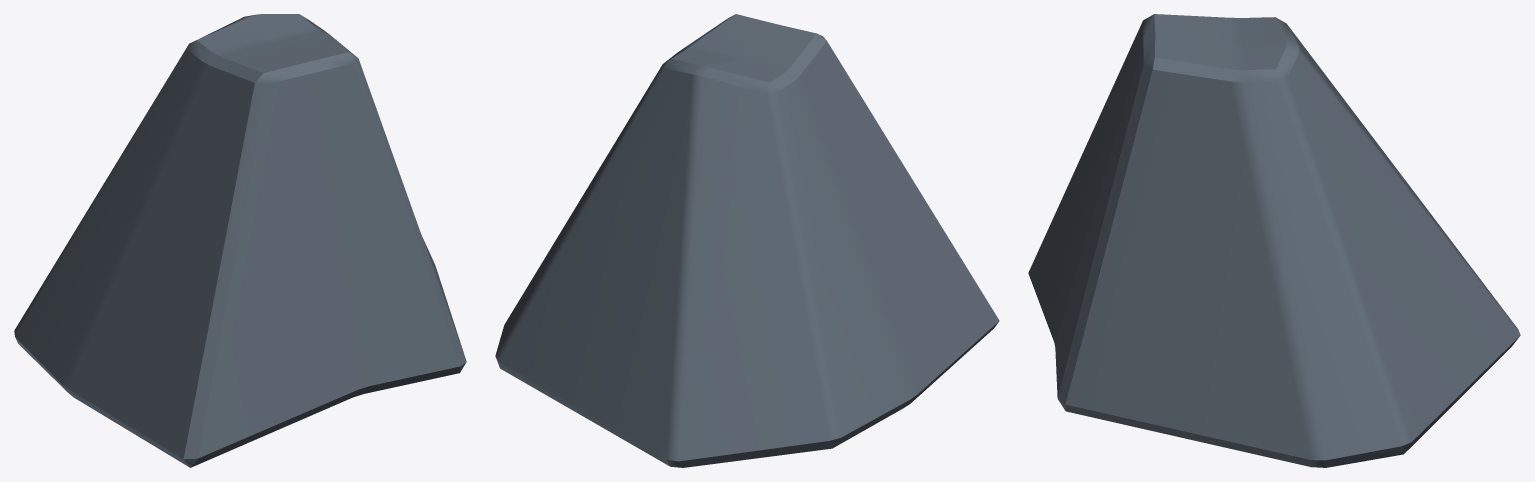
File: Rock_3.fbx
3 views of the same model, side by side, from view 1: azimuth 30°, elevation 25°; view 2: azimuth 150°, elevation 25°; view 3: azimuth 270°, elevation 25° (orthographic). The views are drawn at different scales.
Visible parts, largest first — view 1: rock_3; view 2: rock_3; view 3: rock_3.
Part boxes in pixels (bbox=[...]): rock_3: bbox=[14, 14, 466, 467]; rock_3: bbox=[495, 14, 999, 467]; rock_3: bbox=[1028, 14, 1520, 467].
Size of the model in its own units: 1.67 by 1.31 by 1.72.
